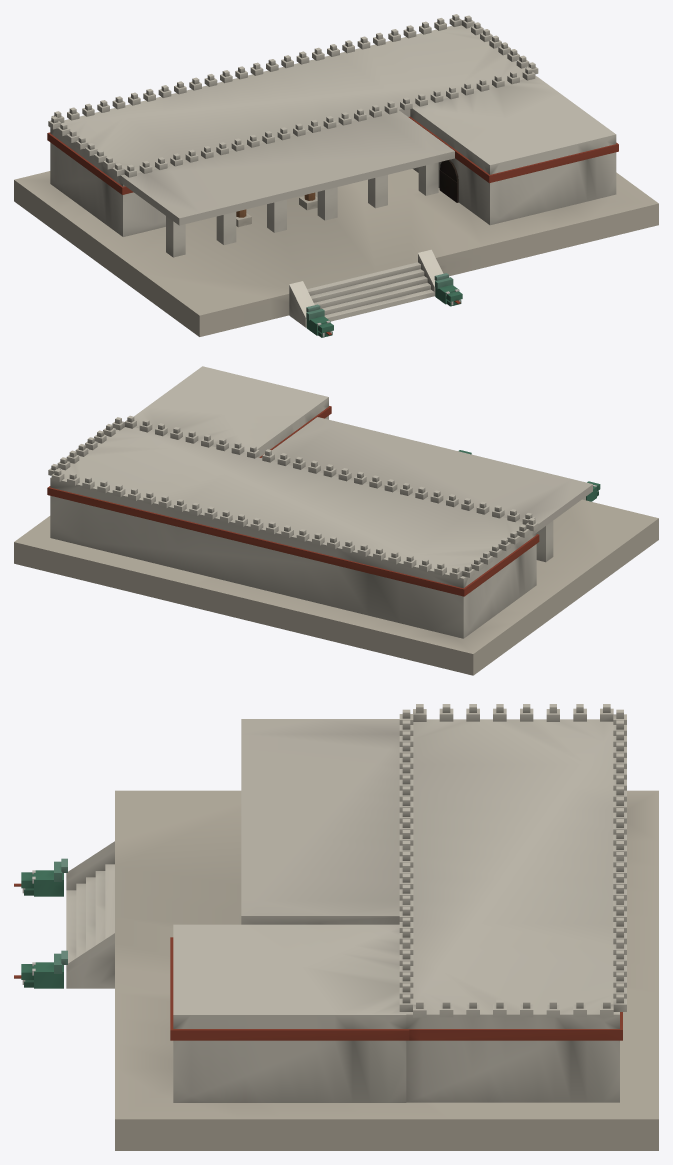
File: house-of-eagles.glb
3 renders of one model, top to bottom at view 1: azimuth 30°, elevation 25°; view 2: azimuth 150°, elevation 25°; view 3: azimuth 270°, elevation 25°, orthographic. The views are drawn at different scales.
Parts seen in each view (by area): view 1: p1_hall, p0_platform, p2_roofs; view 2: p1_hall, p0_platform, p2_roofs; view 3: p1_hall, p0_platform, p2_roofs.
Boxes of the visible parts, <box> form: p1_hall: <box>50,25,616,257</box>; p0_platform: <box>14,169,658,337</box>; p2_roofs: <box>47,14,618,227</box>; p1_hall: <box>50,366,553,638</box>; p0_platform: <box>14,450,658,675</box>; p2_roofs: <box>47,406,592,596</box>; p1_hall: <box>173,719,619,1102</box>; p0_platform: <box>14,790,658,1150</box>; p2_roofs: <box>170,704,626,1040</box>.
Bounding box in the file's own units: 40 × 7.59 × 33.2.
